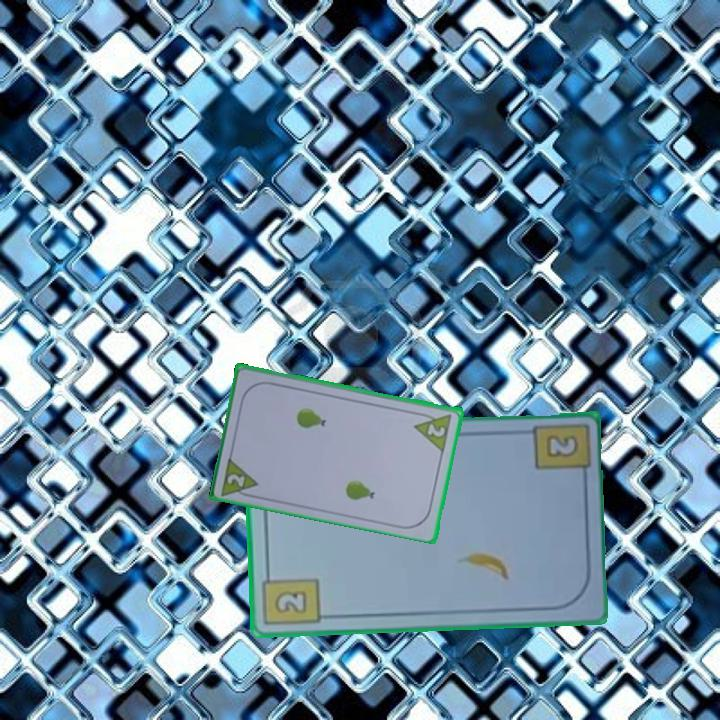2b: (260, 564, 323, 629), (542, 431, 582, 461)
2p: (218, 453, 261, 501), (411, 408, 455, 454)
